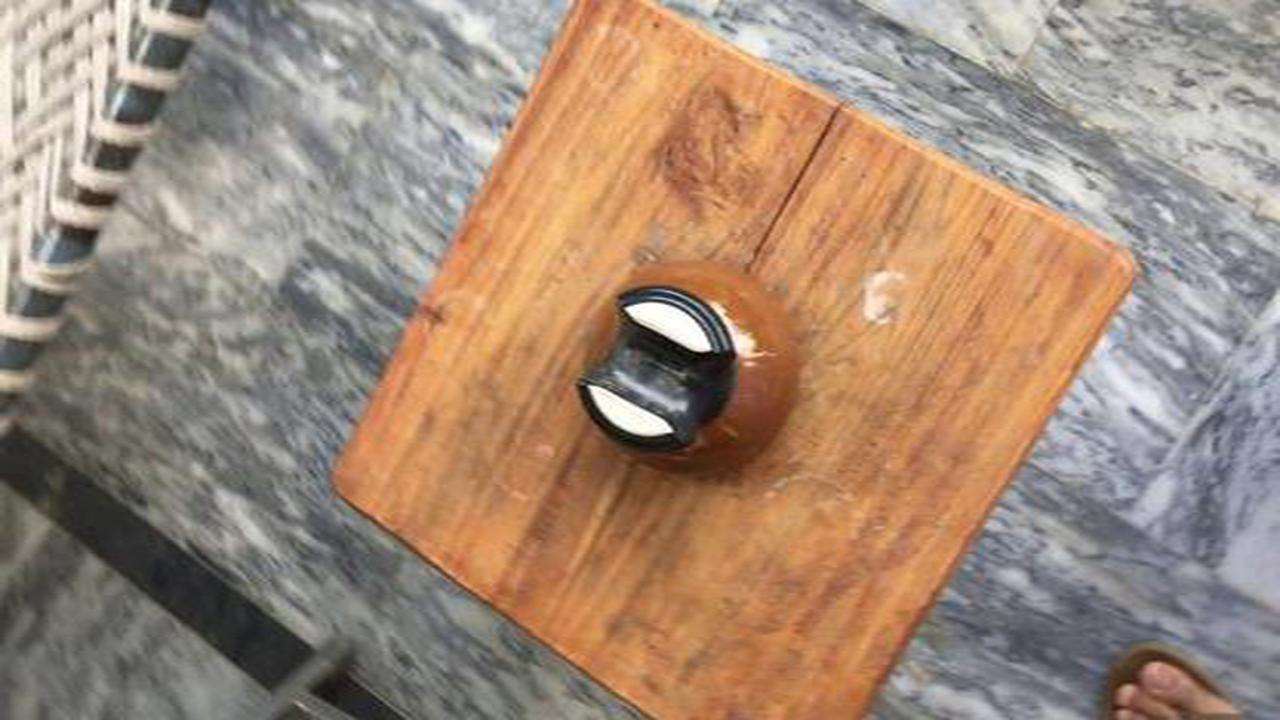insulator_pin: (548, 250, 834, 489)
